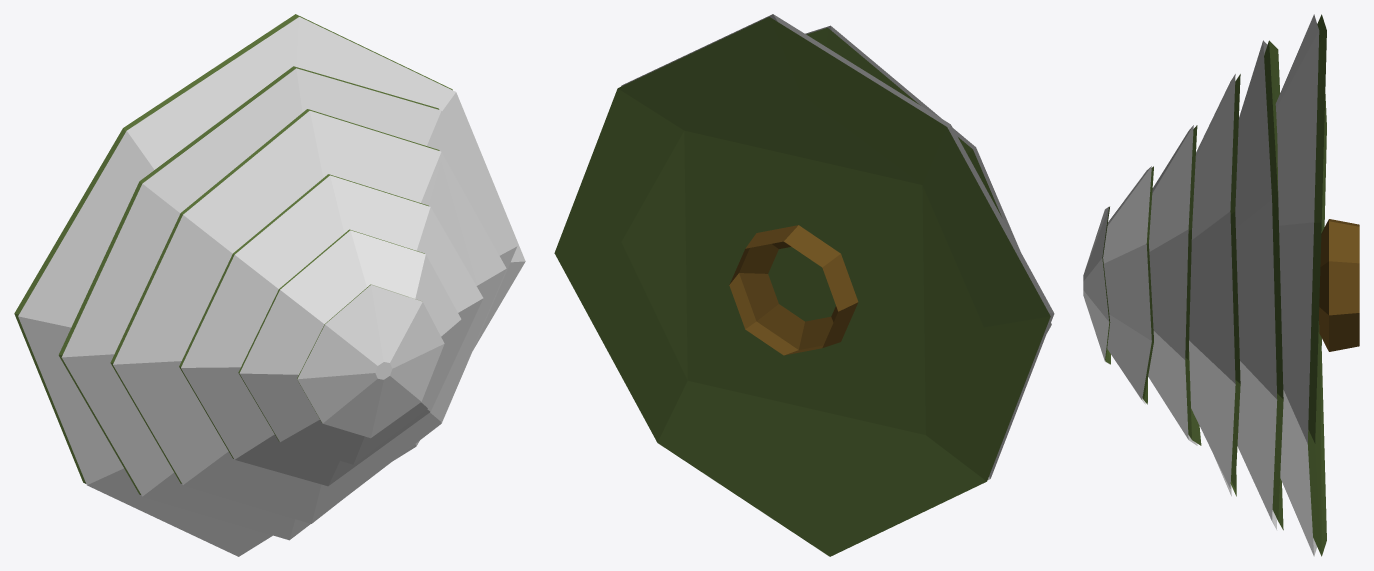
File: pine-tree-2-snow.glb
3 views of the same model, side by side, from view 1: azimuth 30°, elevation 25°; view 2: azimuth 150°, elevation 25°; view 3: azimuth 270°, elevation 25° (orthographic). The views are drawn at different scales.
Parts seen in each view (by area): view 1: Elka_2Snow_2; view 2: Elka_2Snow_2; view 3: Elka_2Snow_2.
Part boxes in pixels (box(x1,y1,x2,y2)): Elka_2Snow_2: box(14, 14, 525, 556); Elka_2Snow_2: box(554, 14, 1054, 556); Elka_2Snow_2: box(1083, 14, 1359, 556).
Bounding box in the file's own units: 3.15 × 3.15 × 1.46.
